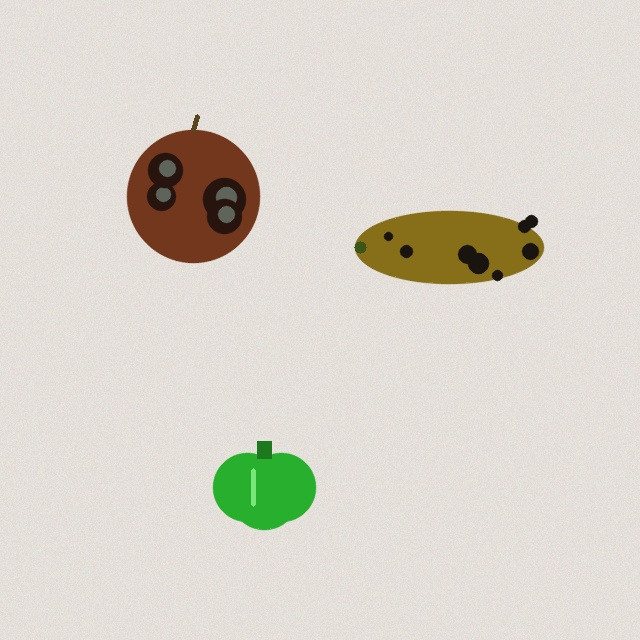Fresh bell pepper: (213, 441, 315, 529)
Rotten apple: (127, 116, 259, 262)
Rotten banana: (351, 202, 547, 292)
